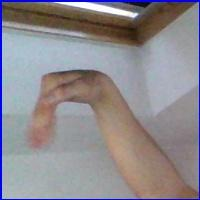del: (37, 69, 124, 163)
